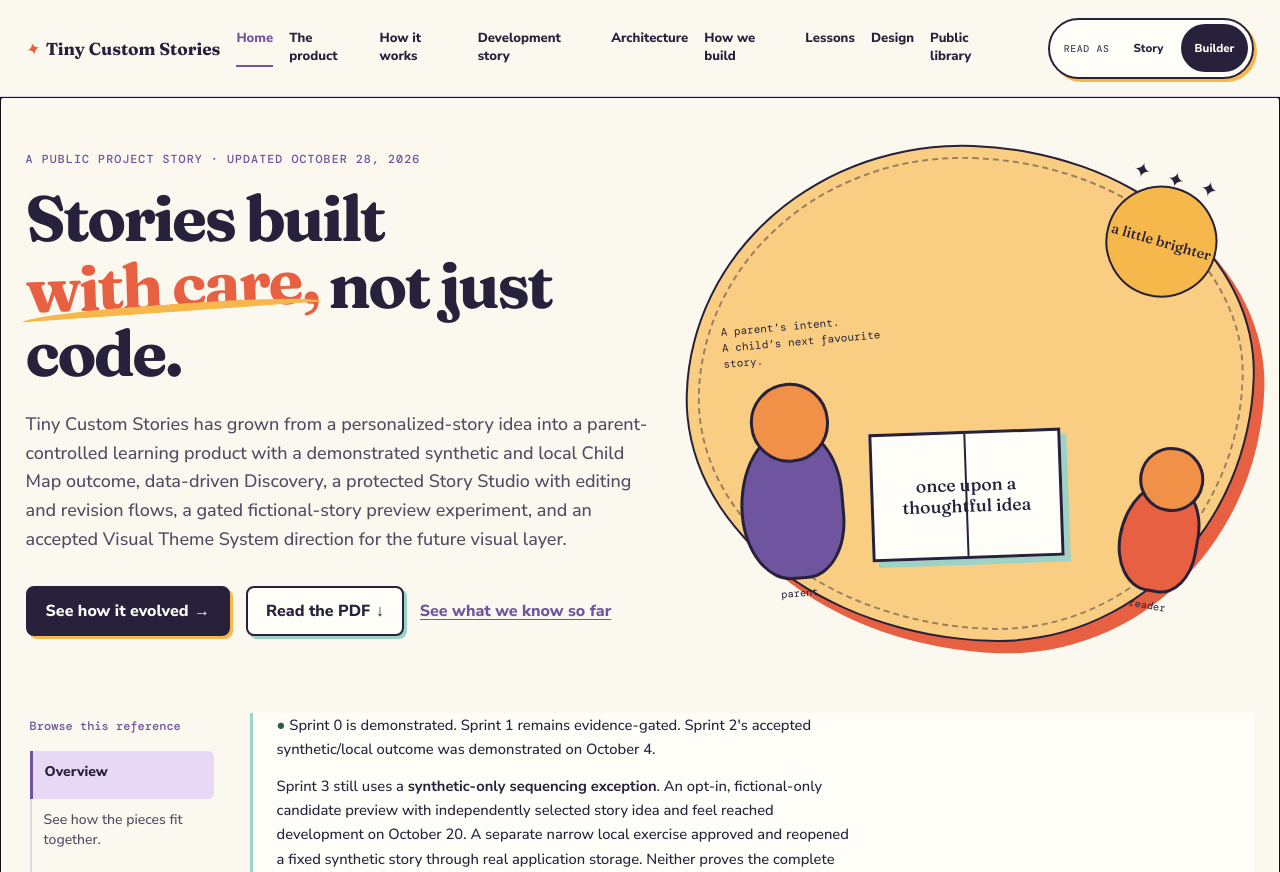
Test case: project story site › explains the public boundary and preserves knowledge-status distinctions
The image size is (1280, 872).
Expected: the heading "Stories built with care, not just code." is shown, [24,178,551,392]
What coordinates should you click on to do the following:
click the link "Public library"
I would click on:
 (951, 47)
Its box is [930,29,971,65].
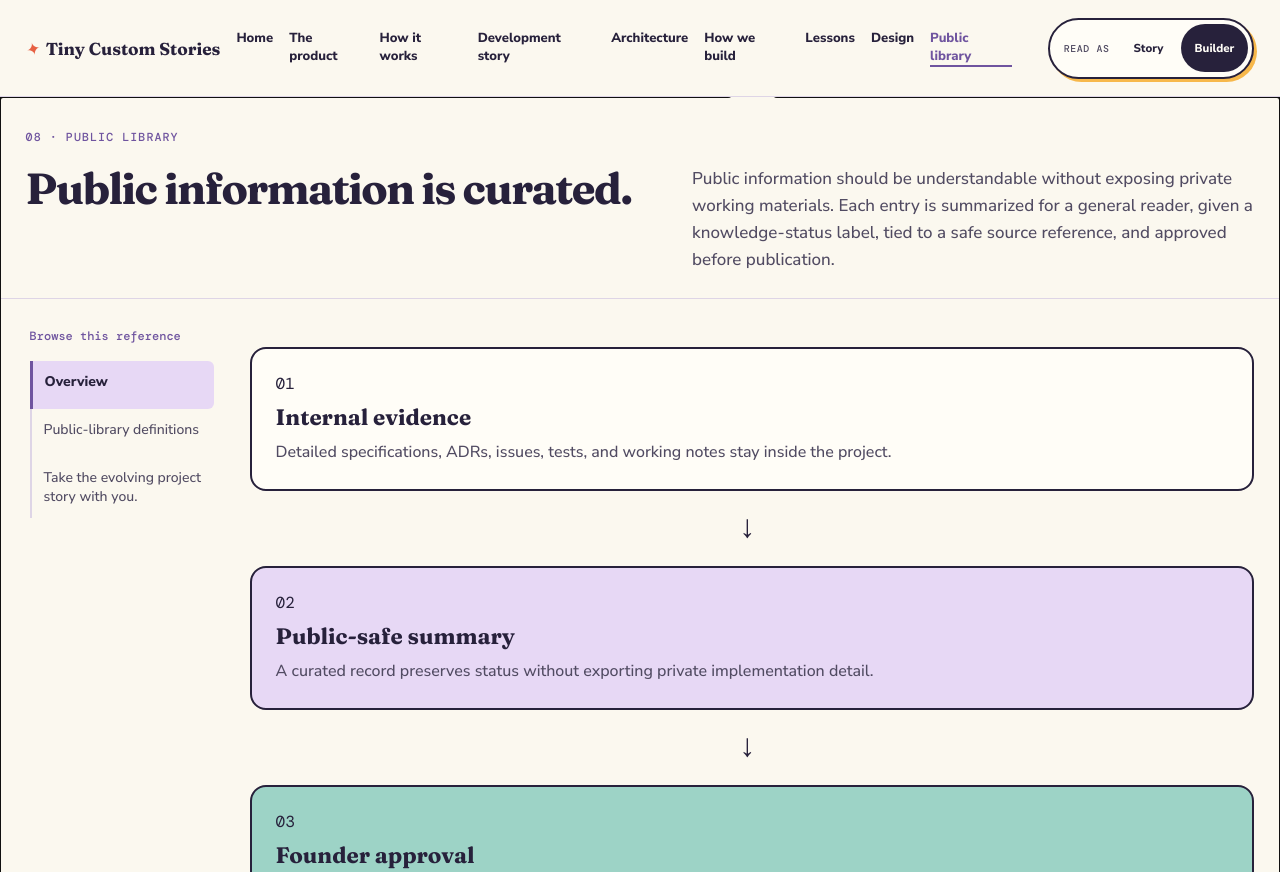
Expected: the heading "Public information is curated." is shown, [26,165,644,212]
What coordinates should you click on to do the following:
click the link "Development story"
I would click on:
 (519, 47)
Its box is [478,29,561,65].
(page scrolled)
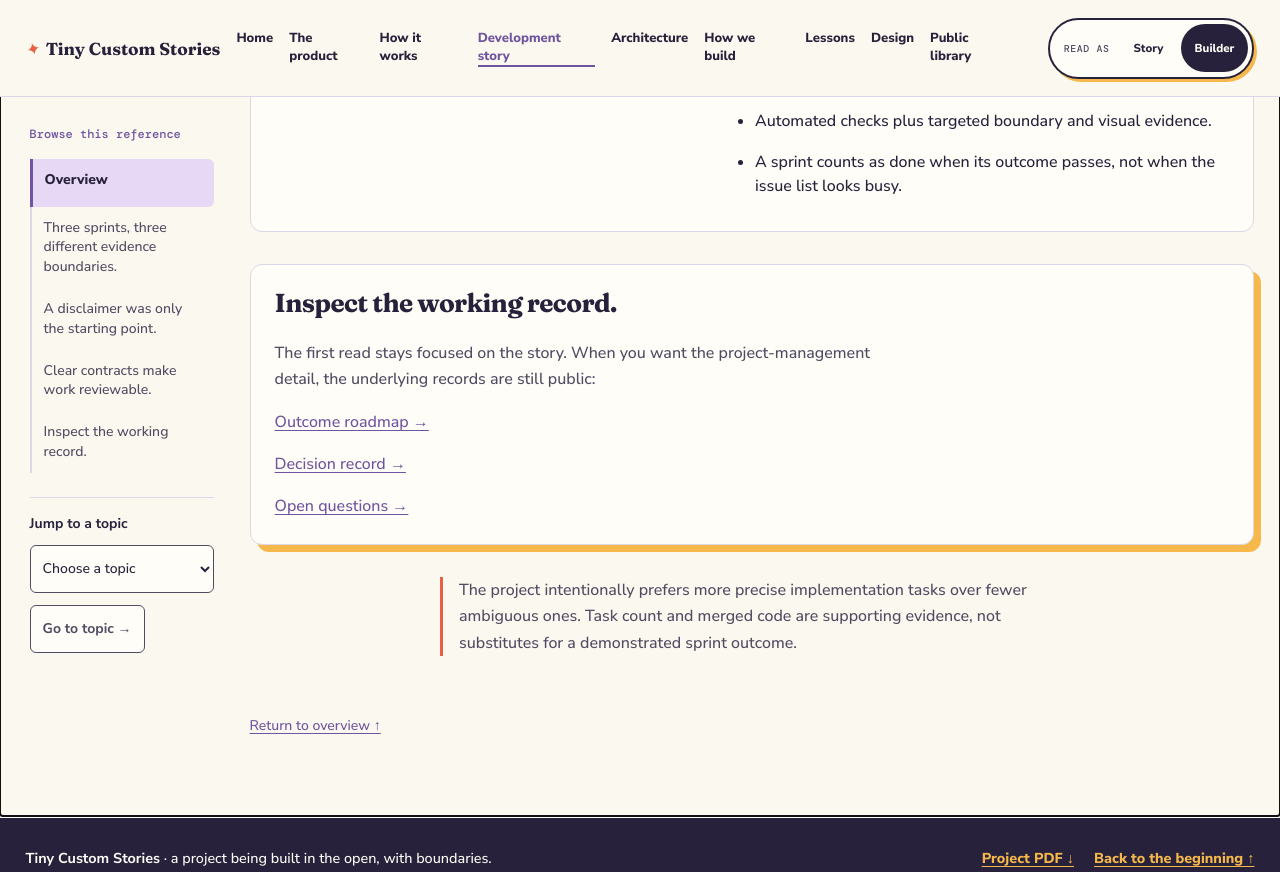
What coordinates should you click on to do the following:
click the link "Decision record →"
I would click on:
 (340, 464)
Its box is [275,453,406,475].
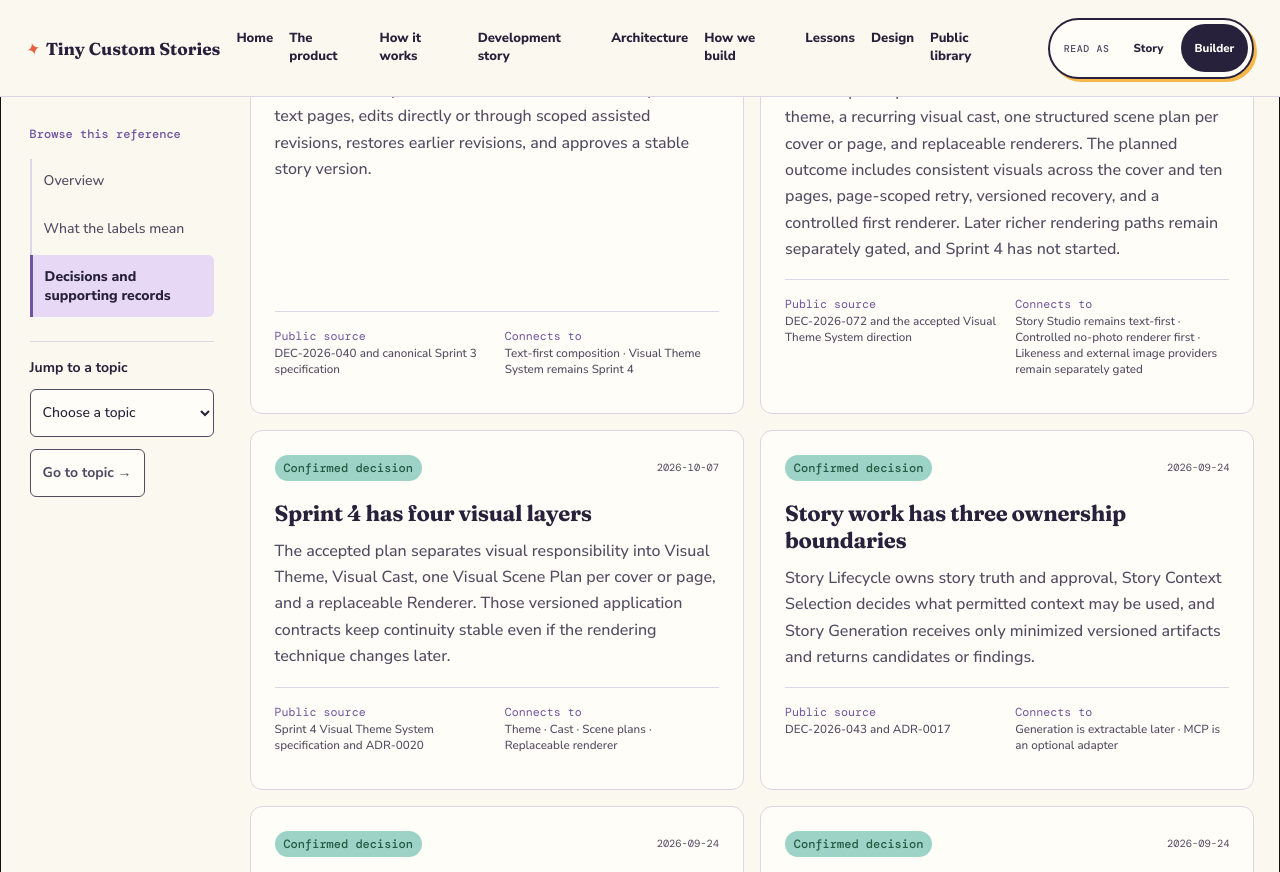
Expected: the heading "Story work has three ownership boundaries" is shown, [785,499,1126,554]
